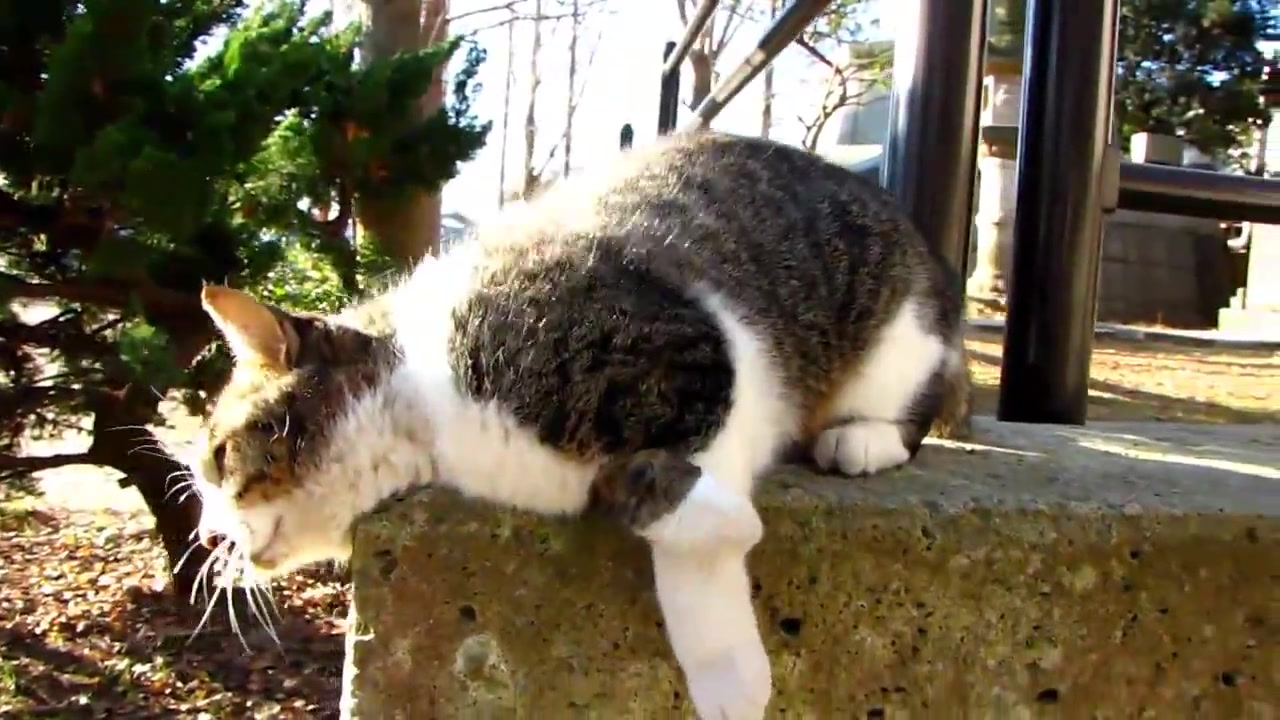cat: (148, 128, 973, 720)
